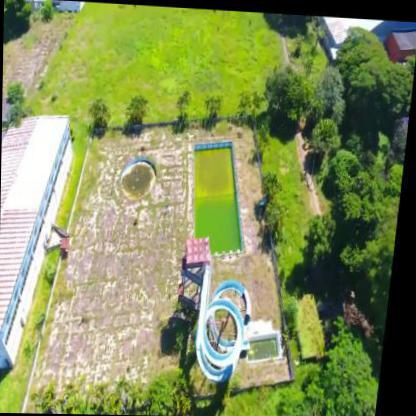agua: (192, 146, 244, 240), (123, 160, 161, 196)
